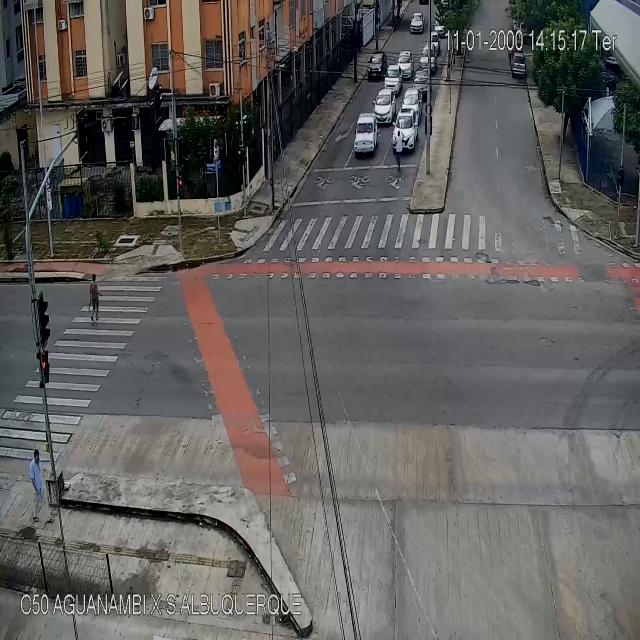Car: (394, 110, 418, 147), (354, 114, 376, 153), (374, 89, 396, 121), (385, 62, 403, 88), (368, 53, 385, 80), (401, 90, 420, 114), (398, 50, 412, 80), (421, 48, 436, 74), (414, 69, 426, 99), (427, 32, 440, 56), (410, 12, 423, 34), (512, 55, 526, 75)
